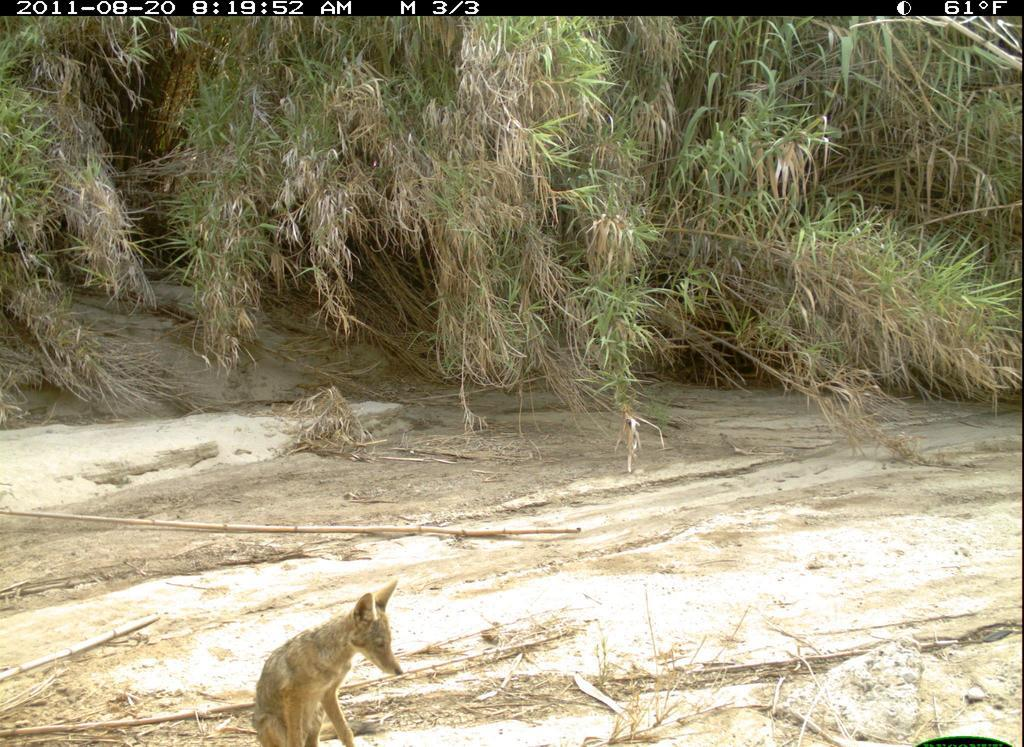coyote: (237, 577, 440, 745)
